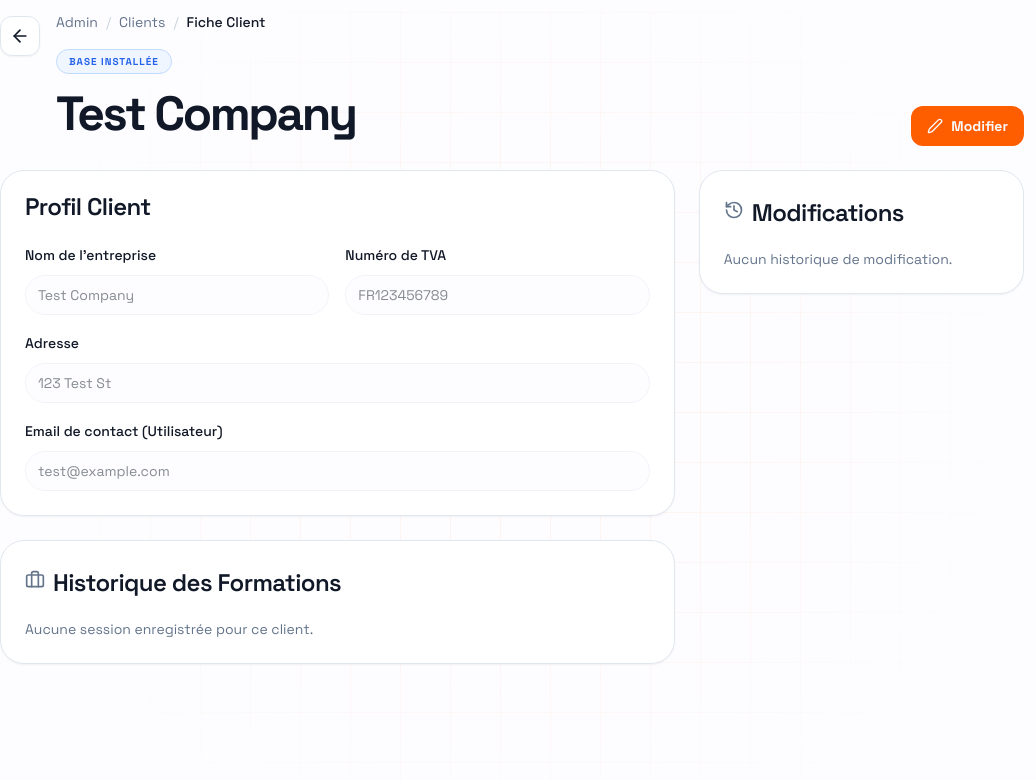
Test: ClientEditForm › toggles edit mode
The image size is (1036, 780).
Step 1. Click the button "Modifier" → click(968, 126), box [911,106,1024,146]
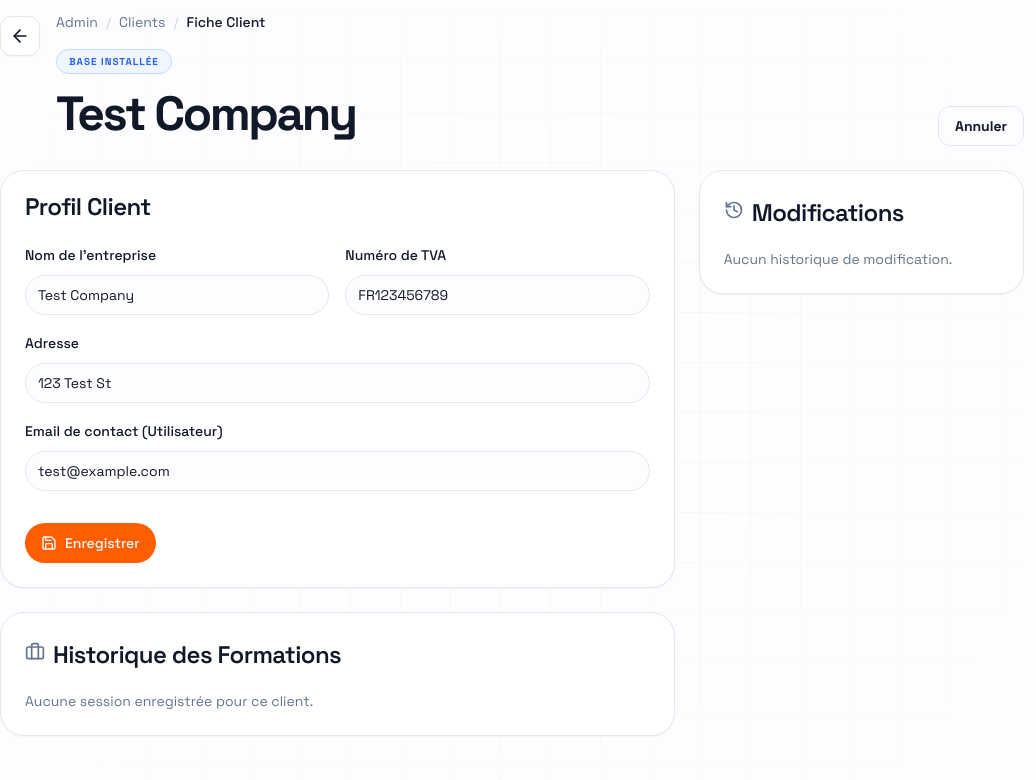
Check: the button "Annuler" is shown
Check: the field showing "Test Company" below "Nom de l'entreprise" is enabled, box [25,275,329,315]
Step 2. Click the button "Annuler" → click(981, 126), box [938,106,1024,146]
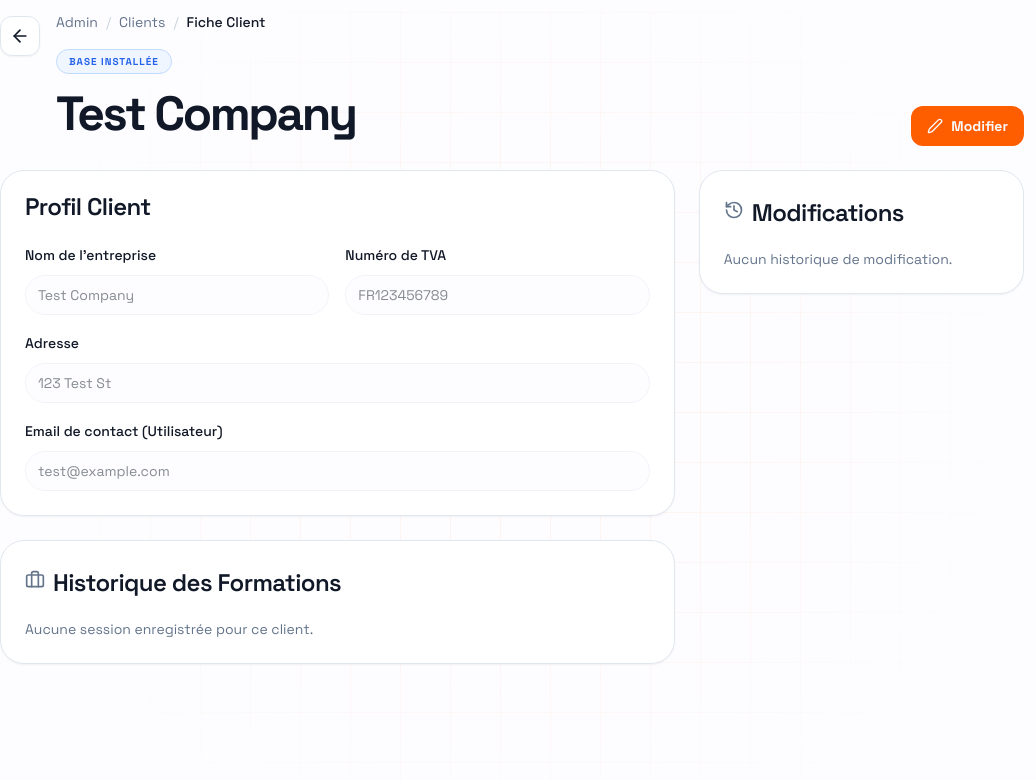
Check: the button "Modifier" is shown, box [911,106,1024,146]
Check: the field showing "Test Company" below "Nom de l'entreprise" is disabled, box [25,275,329,315]
